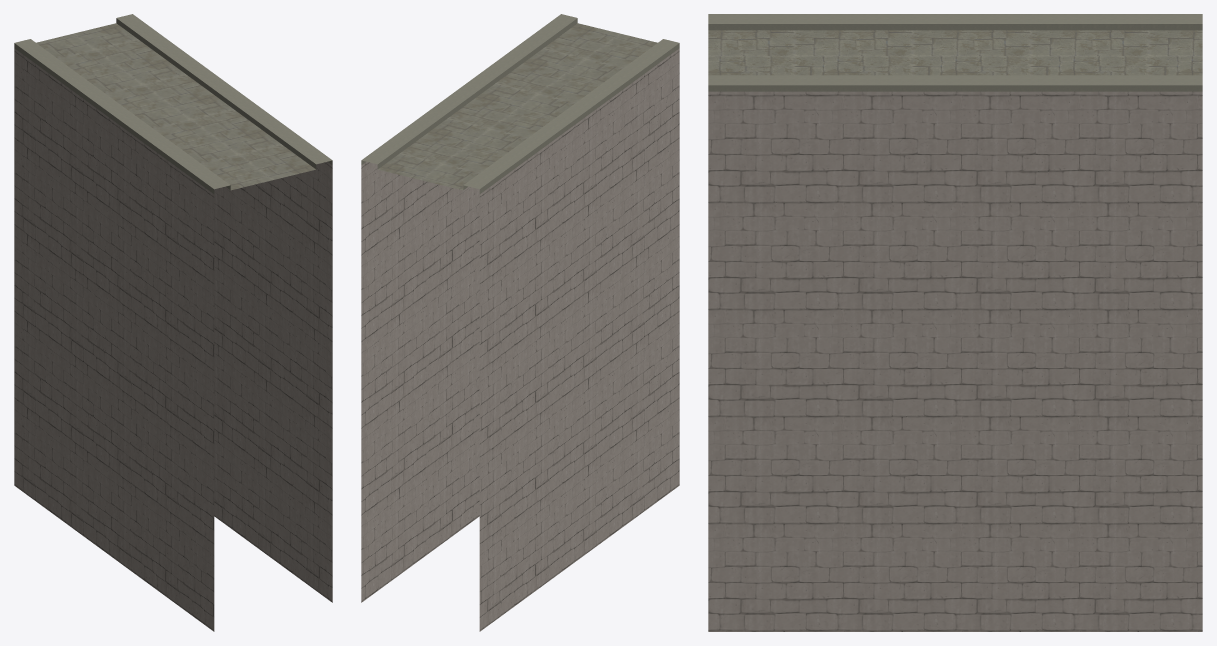
The model's file is AD_Ground_C_01.fbx.
The picture shows the model from 3 angles, left to right: view 1: azimuth 30°, elevation 25°; view 2: azimuth 150°, elevation 25°; view 3: azimuth 270°, elevation 25°; orthographic projection. The views are drawn at different scales.
Visible parts, largest first — view 1: AD_Ground_C_01; view 2: AD_Ground_C_01; view 3: AD_Ground_C_01.
Part boxes in pixels (x1,y1,x2,y2): AD_Ground_C_01: [14, 14, 332, 631]; AD_Ground_C_01: [361, 14, 679, 631]; AD_Ground_C_01: [708, 14, 1202, 631].
Size of the model in its own units: 1431 by 5108 by 4184.
Materials: 3 (3 with a texture image).
